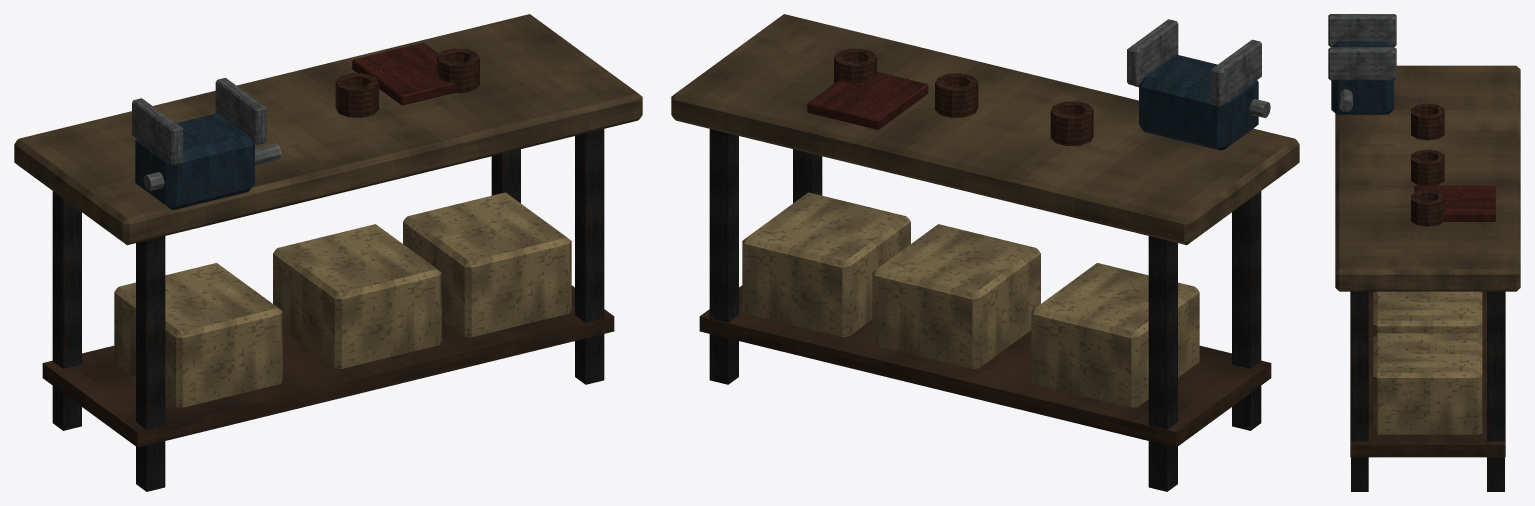
Rendered from level_castle_preparation_bench_worn.glb.
3 views of the same model, side by side, from view 1: azimuth 30°, elevation 25°; view 2: azimuth 150°, elevation 25°; view 3: azimuth 270°, elevation 25° (orthographic). The views are drawn at different scales.
Parts seen in each view (by area): view 1: level_workbench_worn; view 2: level_workbench_worn; view 3: level_workbench_worn.
Boxes of the visible parts, bbox=[...] form: level_workbench_worn: bbox=[14, 14, 642, 491]; level_workbench_worn: bbox=[671, 14, 1299, 491]; level_workbench_worn: bbox=[1328, 14, 1520, 491].
Bounding box in the file's own units: 1.8 × 1.22 × 0.705.
8 materials, 8 textured.
